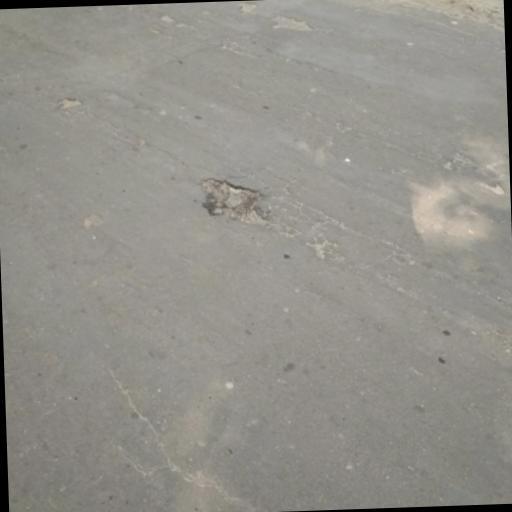pothole: (194, 174, 269, 230), (268, 10, 314, 32), (54, 94, 82, 110), (237, 0, 259, 13)
